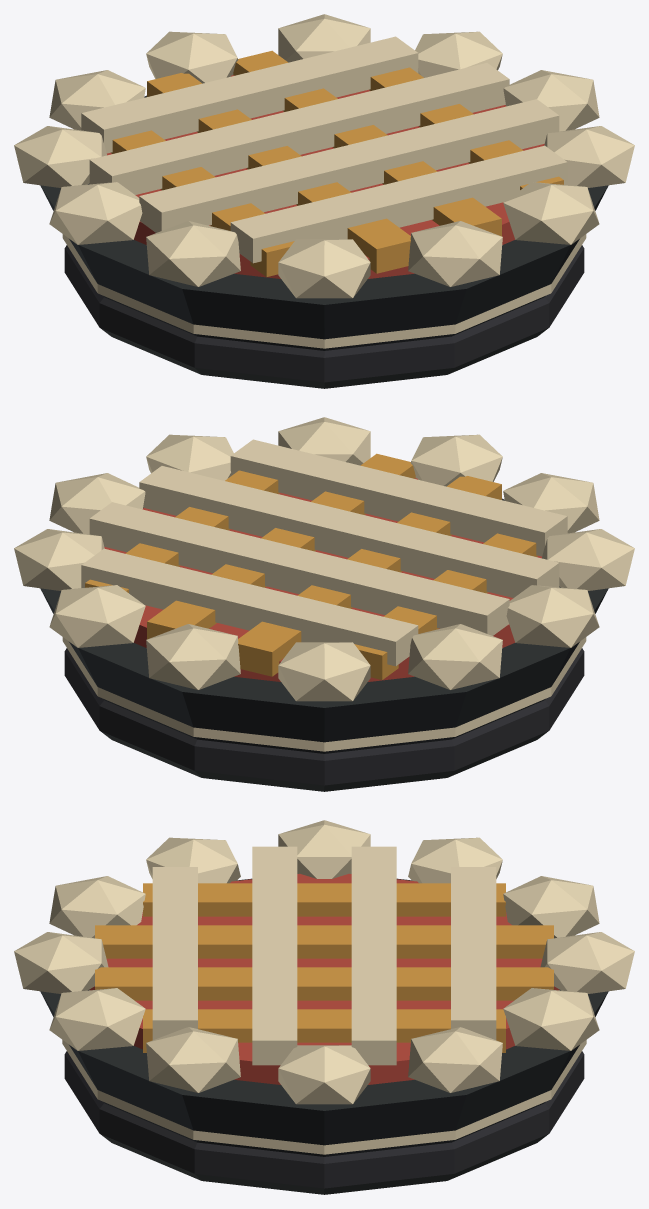
The model's file is item_pie_a.glb.
3 views of the same model, one above another, from view 1: azimuth 30°, elevation 25°; view 2: azimuth 150°, elevation 25°; view 3: azimuth 270°, elevation 25° (orthographic).
Parts seen in each view (by area): view 1: pie_base_pastry, pie_tin, pie_filling; view 2: pie_base_pastry, pie_tin, pie_filling; view 3: pie_base_pastry, pie_tin, pie_filling.
Boxes of the visible parts, left/top/right/bottom form: pie_base_pastry: left=14, top=14, right=634, bottom=348; pie_tin: left=40, top=95, right=608, bottom=388; pie_filling: left=107, top=50, right=563, bottom=278; pie_base_pastry: left=14, top=417, right=634, bottom=751; pie_tin: left=40, top=498, right=608, bottom=791; pie_filling: left=85, top=453, right=541, bottom=681; pie_base_pastry: left=14, top=820, right=634, bottom=1154; pie_tin: left=40, top=878, right=608, bottom=1194; pie_filling: left=89, top=873, right=559, bottom=1084.
Size of the model in its own units: 0.2749 by 0.076 by 0.2749.
